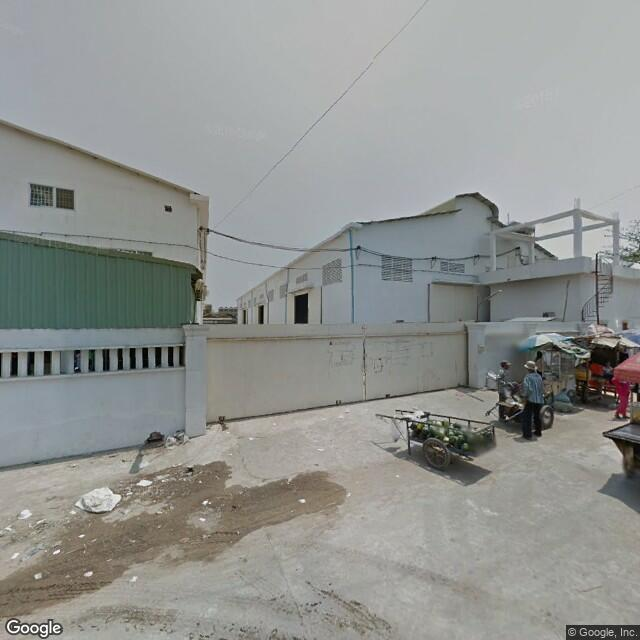litter: (71, 493, 129, 517), (11, 508, 35, 528), (139, 475, 158, 491)
